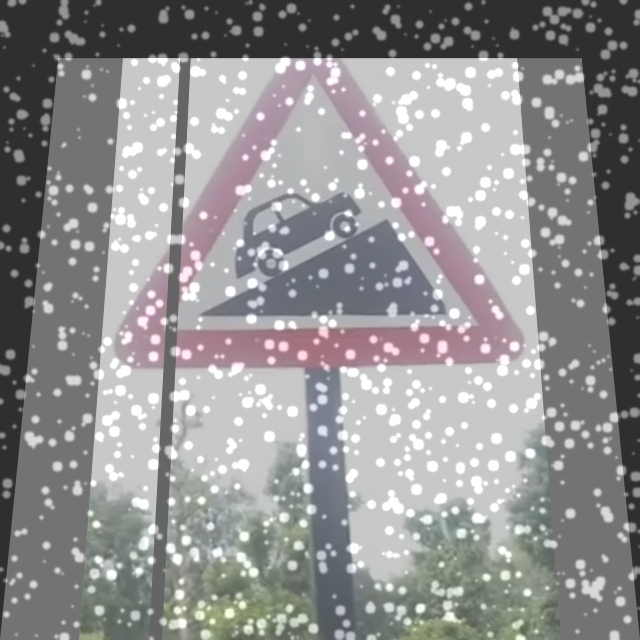Steep_Ascent: (150, 92, 486, 354)
